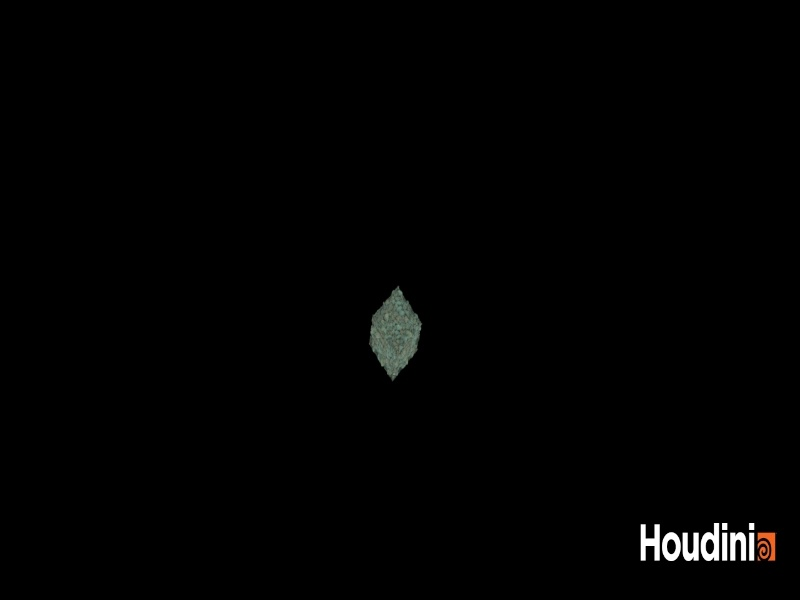waste: (357, 279, 437, 398)
